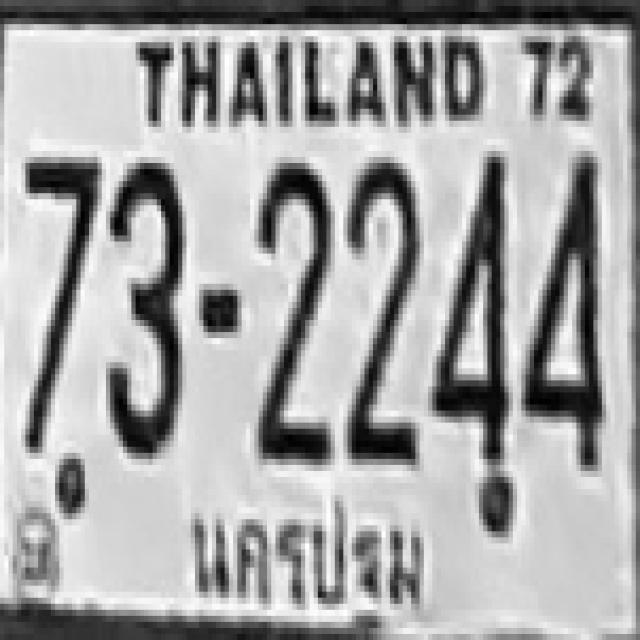2: (254, 157, 331, 435), (344, 157, 416, 435), (344, 154, 416, 414)
3: (102, 157, 182, 453)
4: (521, 145, 598, 465), (428, 145, 504, 459)
7: (21, 151, 98, 441), (21, 151, 98, 350), (21, 151, 98, 332)
NPT: (179, 484, 435, 632)
